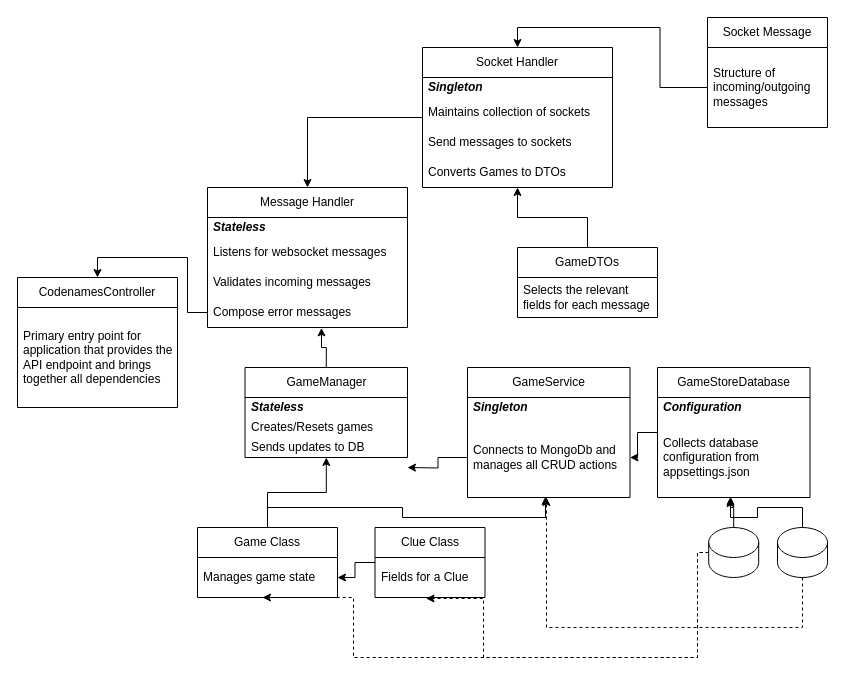
This 845x683 diagram has some shape labels left out. Each missing label, with the centre of its shape:
games: the point at 733,552
words: the point at 802,552
